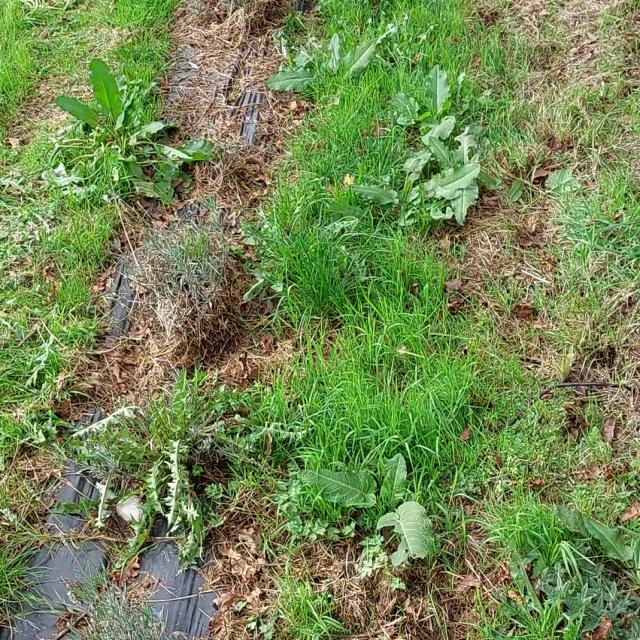organic waste: (32, 60, 226, 205), (300, 445, 474, 606), (342, 146, 477, 246), (262, 18, 400, 95), (374, 67, 491, 150), (416, 126, 511, 216)
